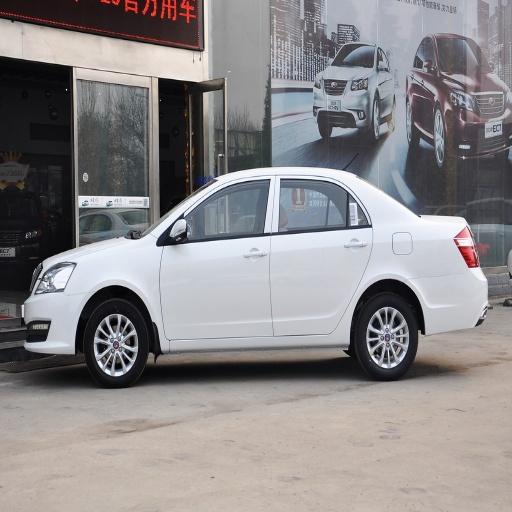back_bumper: (420, 268, 487, 339)
back_left_door: (270, 175, 373, 334)
front_left_door: (159, 175, 274, 339)
